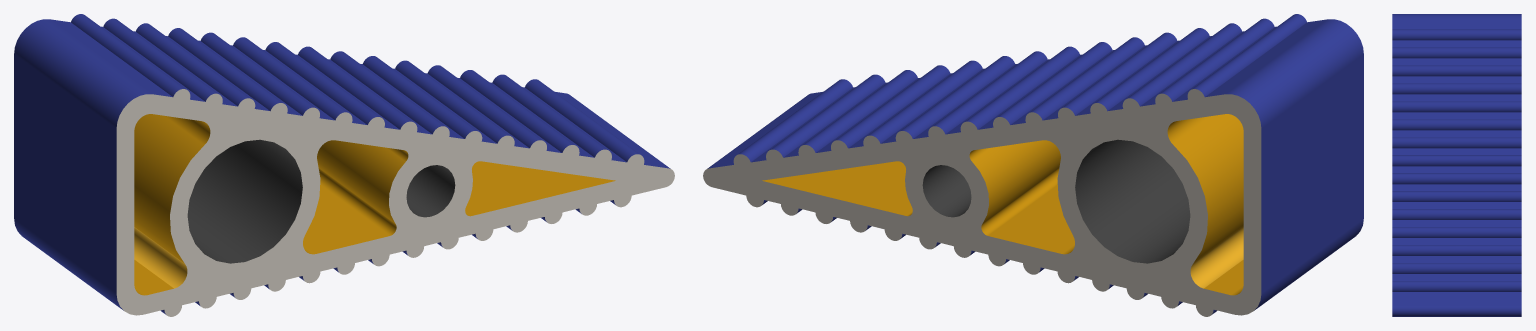
3 renders of one model, left to right at view 1: azimuth 30°, elevation 25°; view 2: azimuth 150°, elevation 25°; view 3: azimuth 270°, elevation 25°, orthographic. The views are drawn at different scales.
Visible parts, largest first — view 1: Body1; view 2: Body1; view 3: Body1.
Boxes of the visible parts, x1,y1,x2,y2 form: Body1: (14, 14, 674, 316); Body1: (703, 14, 1363, 316); Body1: (1392, 14, 1521, 316).
Size of the model in its own units: 12.58 by 4.93 by 4.
